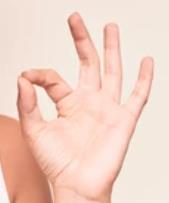left: (11, 8, 158, 194)
